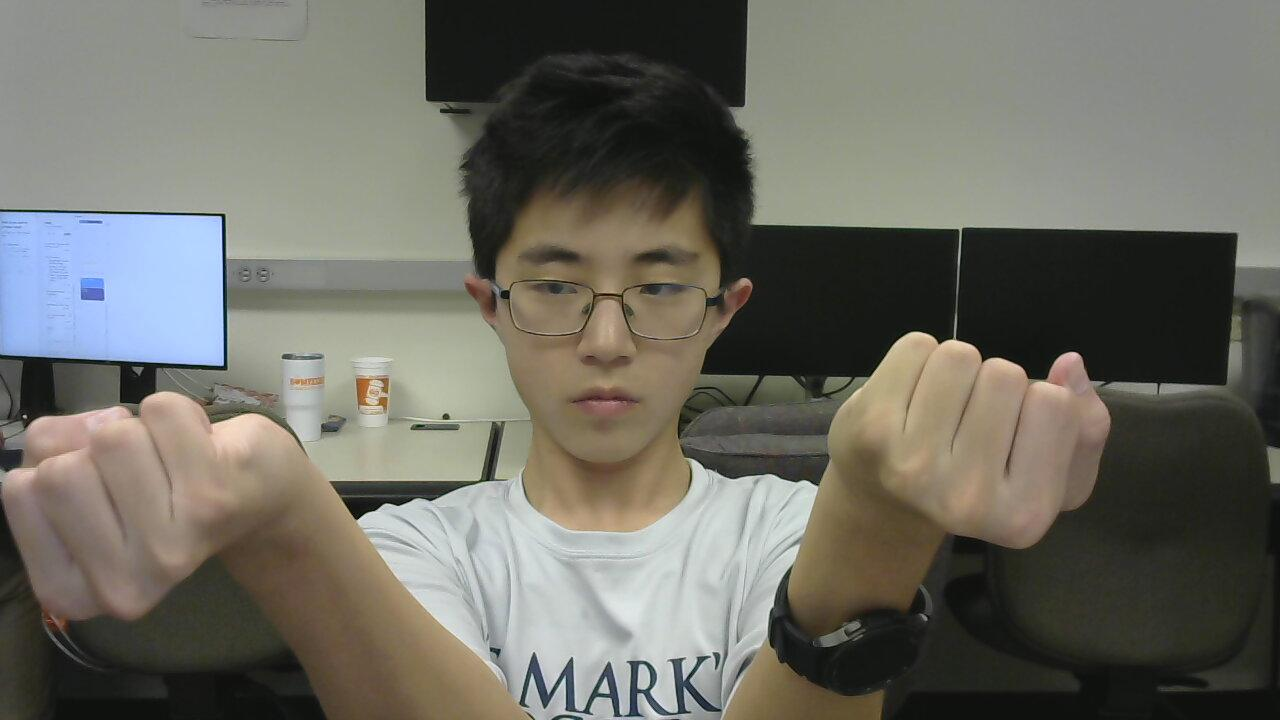fist: (6, 387, 331, 653), (786, 312, 1125, 566)
